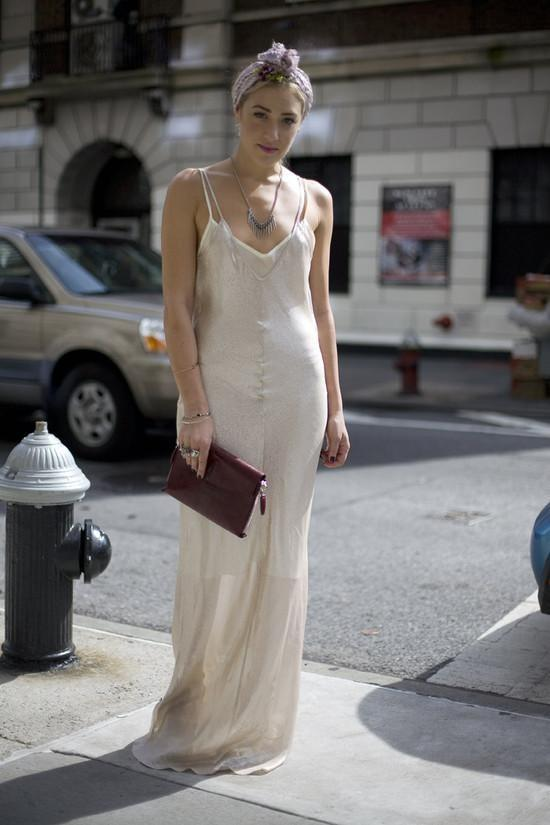dress: (135, 167, 328, 782)
